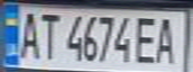4: (112, 12, 136, 64), (63, 11, 84, 62)
6: (81, 12, 100, 63)
7: (97, 12, 118, 63)
A: (151, 14, 181, 66), (15, 9, 42, 61)
E: (133, 14, 160, 65)
T: (36, 9, 60, 61)
